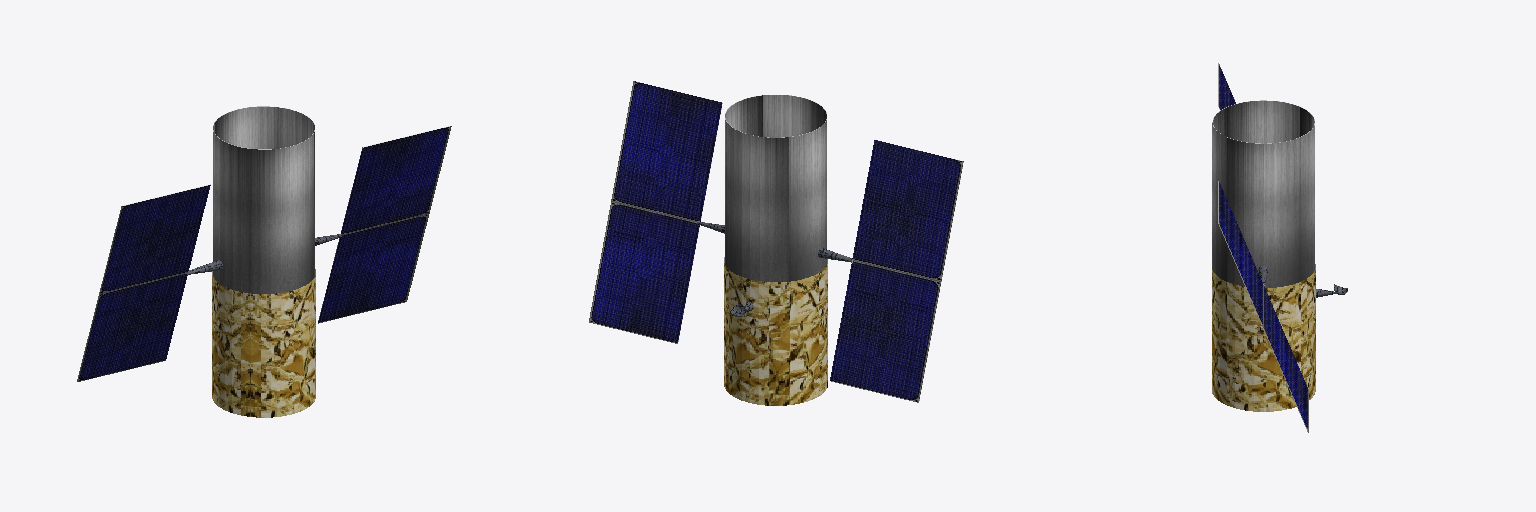
3 renders of one model, left to right at view 1: azimuth 30°, elevation 25°; view 2: azimuth 150°, elevation 25°; view 3: azimuth 270°, elevation 25°, orthographic.
Parts seen in each view (by area): view 1: Cylinder; view 2: Cylinder; view 3: Cylinder.
Boxes of the visible parts, x1,y1,x2,y2 form: Cylinder: [77, 106, 451, 417]; Cylinder: [589, 81, 963, 405]; Cylinder: [1212, 63, 1347, 432].
Bounding box in the file's own units: 7.41 × 5.74 × 2.66.
Materials: 2 (1 with a texture image).